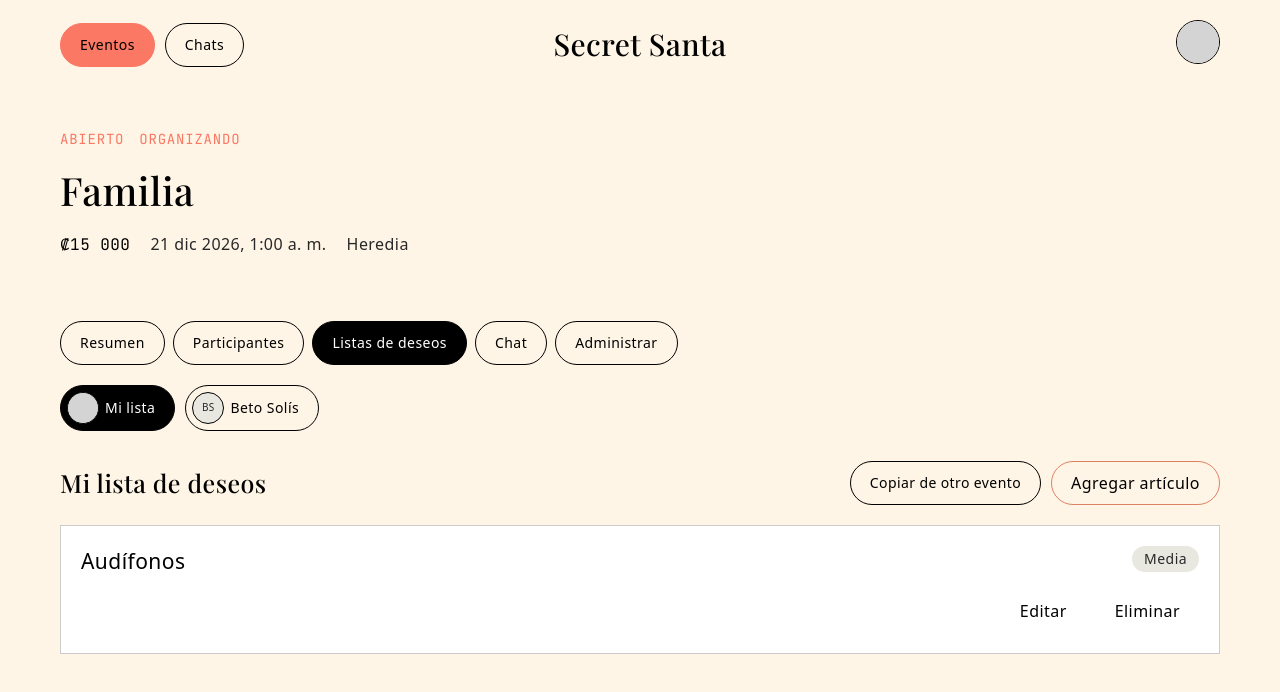
Scenario: Copy from another event › lists my other lists, then imports the chosen one with a toast
This screenshot has width=1280, height=692.
Expected: the element named "Lista de quién" is shown, top-left (60, 384), bottom-right (319, 430)
Click the button "Copiar de otro evento": (945, 482) top-left (850, 460), bottom-right (1041, 504)
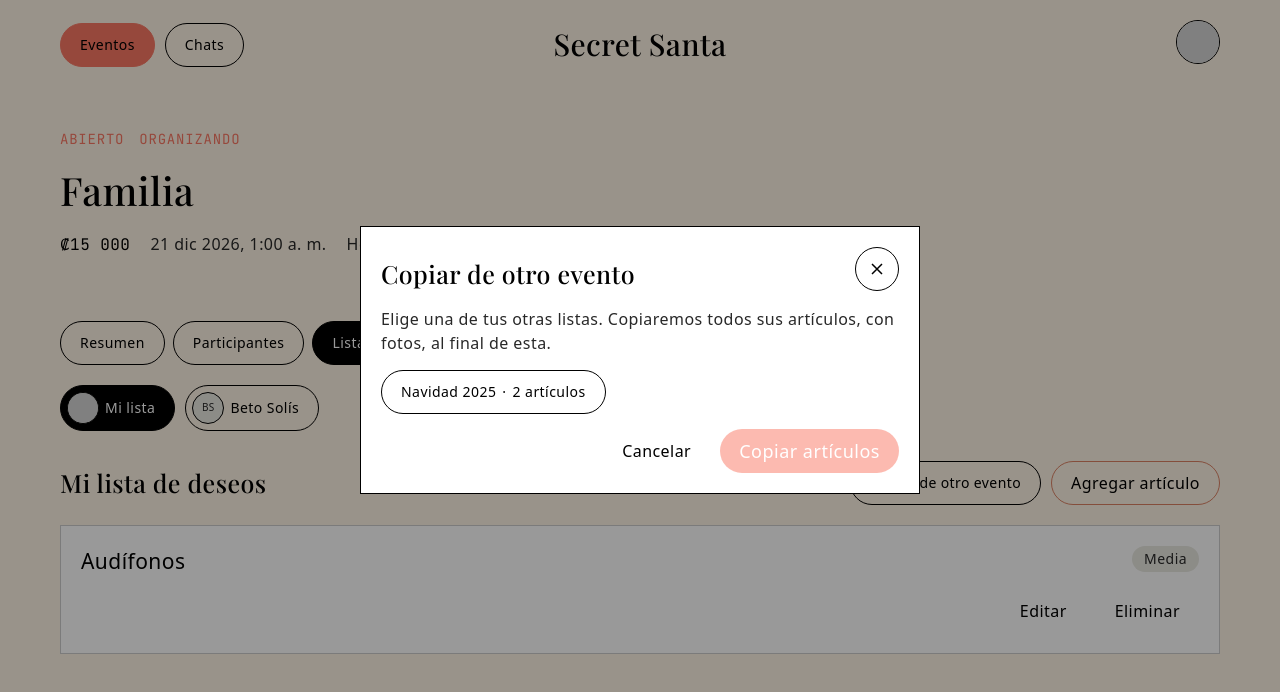
Now the button "Copiar artículos" is disabled, box top-left (720, 429), bottom-right (899, 473)
Click the button with aria-label "Navidad 2025, 2 artículos": (493, 392) top-left (381, 370), bottom-right (606, 414)
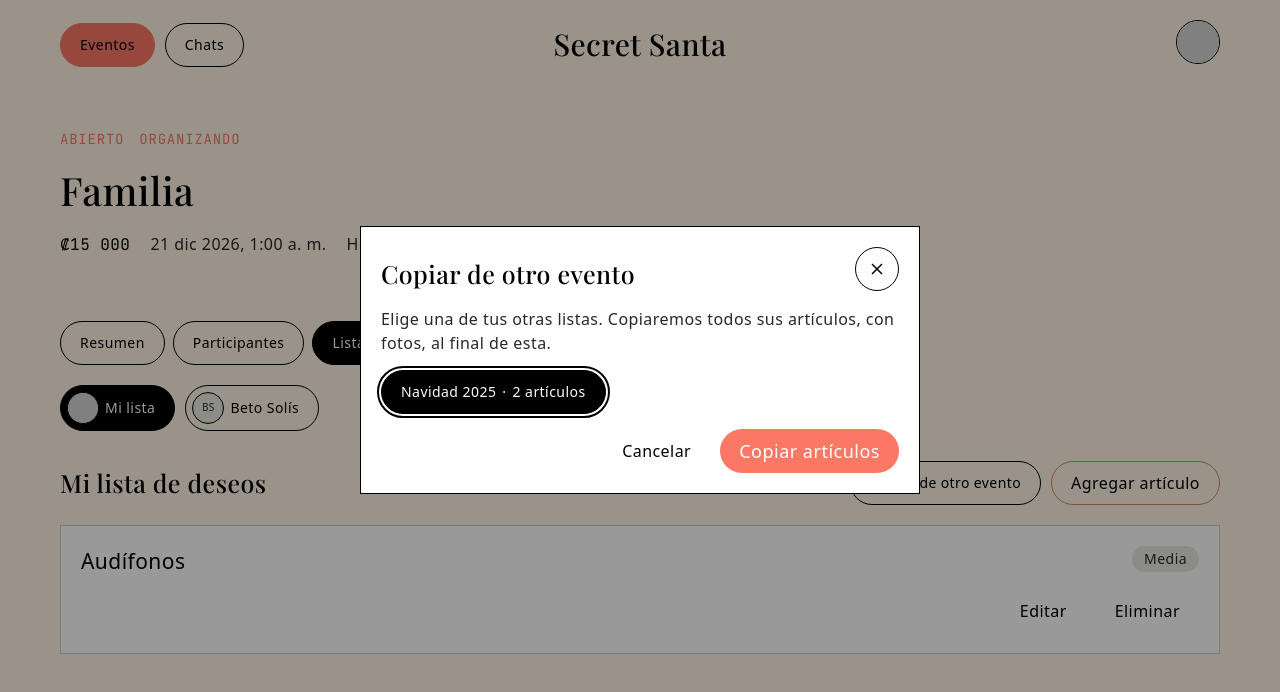
Now the button with aria-label "Navidad 2025, 2 artículos" is pressed, box top-left (381, 370), bottom-right (606, 414)
Click the button "Copiar artículos": (810, 451) top-left (720, 429), bottom-right (899, 473)
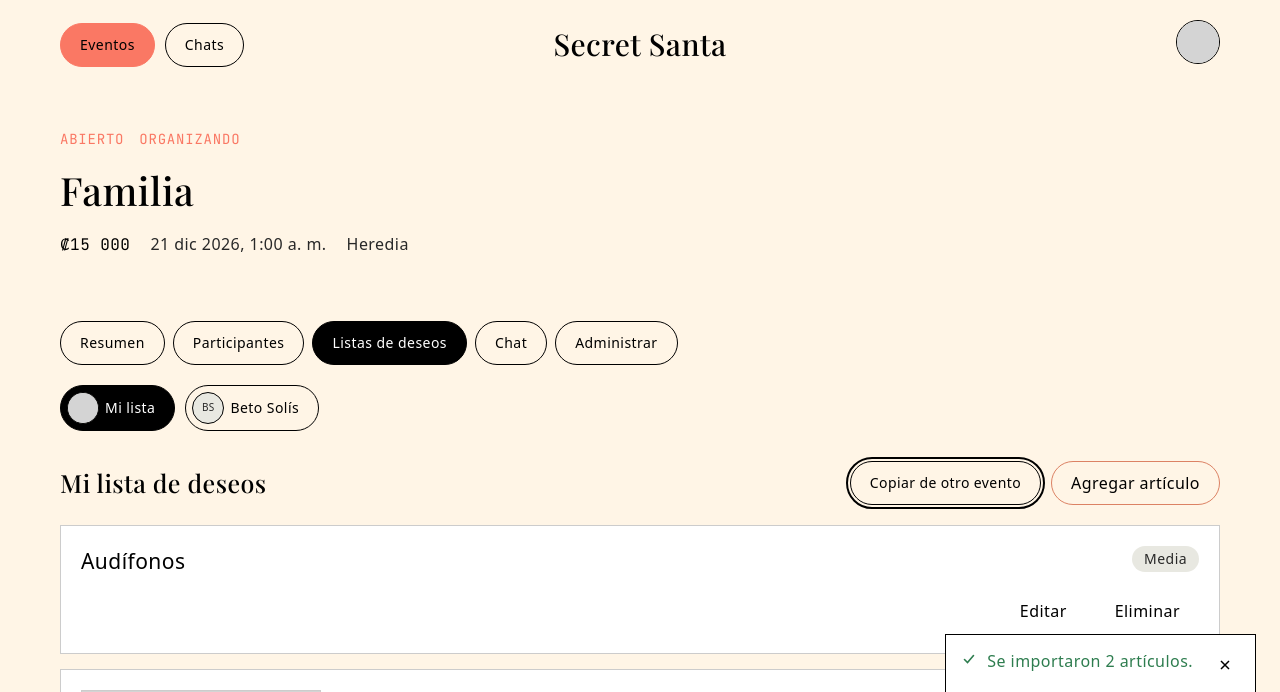
Now the text "Se importaron 2 artículos." is shown, box top-left (987, 649), bottom-right (1193, 673)
